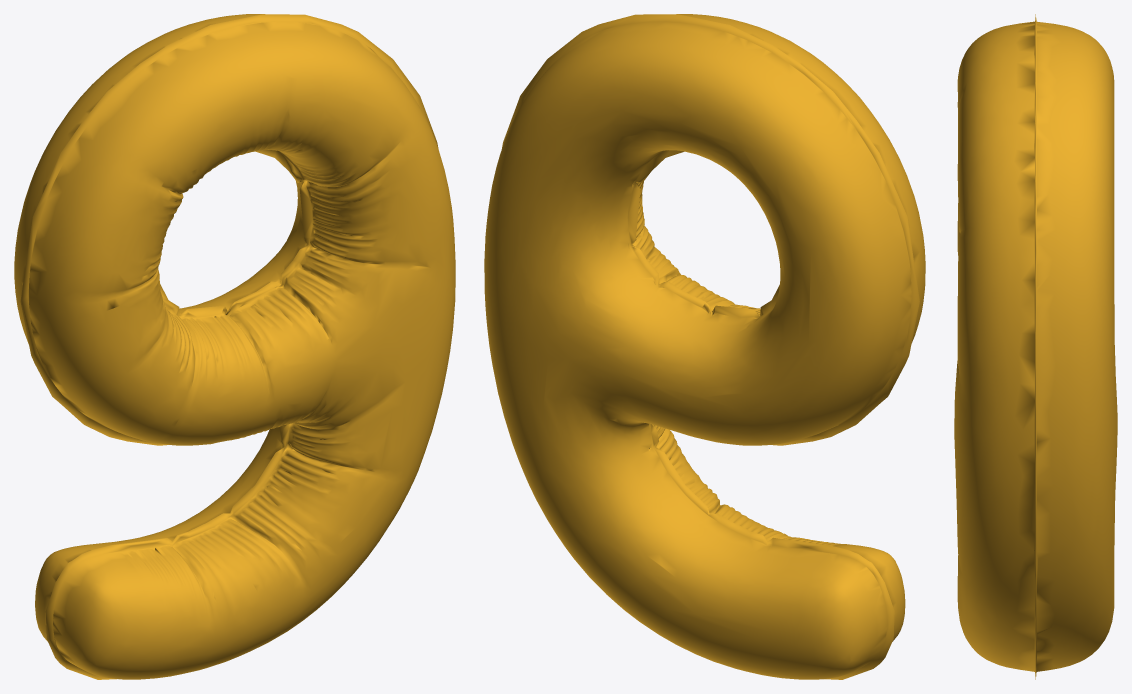
Rendered from zahlen-gold-nr9-gruppe.glb.
3 renders of one model, left to right at view 1: azimuth 30°, elevation 25°; view 2: azimuth 150°, elevation 25°; view 3: azimuth 270°, elevation 25°, orthographic.
Parts seen in each view (by area): view 1: nr9; view 2: nr9; view 3: nr9.
Boxes of the visible parts, x1,y1,x2,y2 form: nr9: (14, 14, 455, 679); nr9: (484, 14, 925, 679); nr9: (954, 14, 1117, 679).
Bounding box in the file's own units: 0.4476 × 0.6367 × 0.147.
